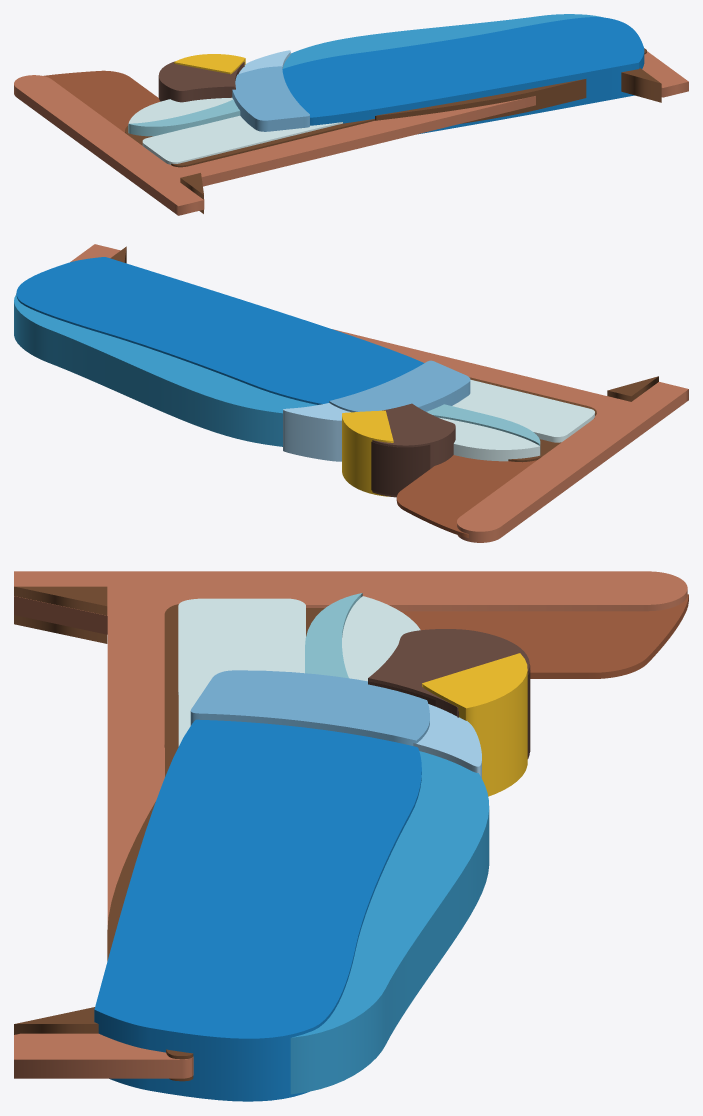
The model's file is emoji_u1f6cc.glb.
The picture shows the model from 3 angles, top to bottom: view 1: azimuth 30°, elevation 25°; view 2: azimuth 150°, elevation 25°; view 3: azimuth 270°, elevation 25°; orthographic projection. The views are drawn at different scales.
Visible parts, largest first — view 1: emoji_u1f6cc; view 2: emoji_u1f6cc; view 3: emoji_u1f6cc.
Boxes of the visible parts, x1,y1,x2,y2 form: emoji_u1f6cc: (14, 14, 688, 215); emoji_u1f6cc: (14, 244, 688, 542); emoji_u1f6cc: (14, 571, 688, 1101).
Size of the model in its own units: 0.0334 by 0.003 by 0.0195.
